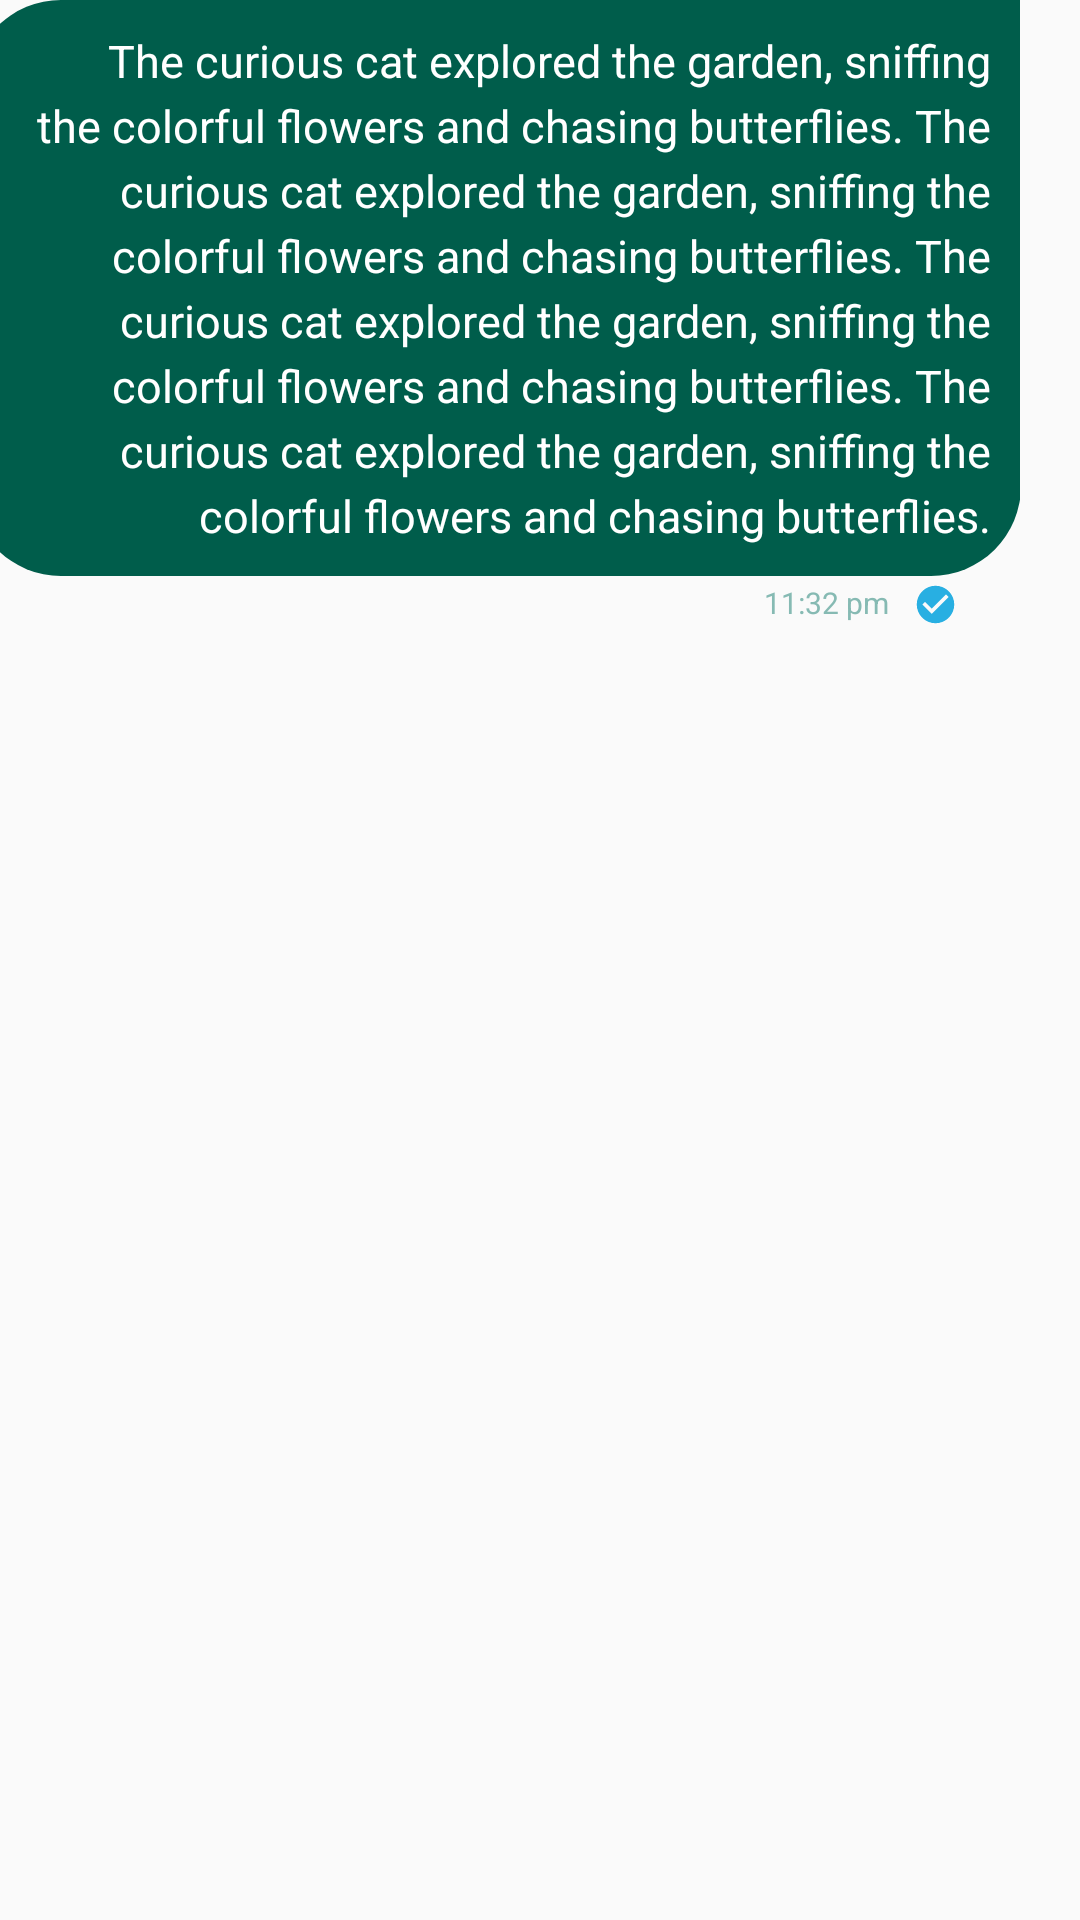

Icon bounding boxes for this 1080px x 1920px phone screenshot, format (x1, y1, x2, y2):
check circle: (916, 585, 955, 624)
